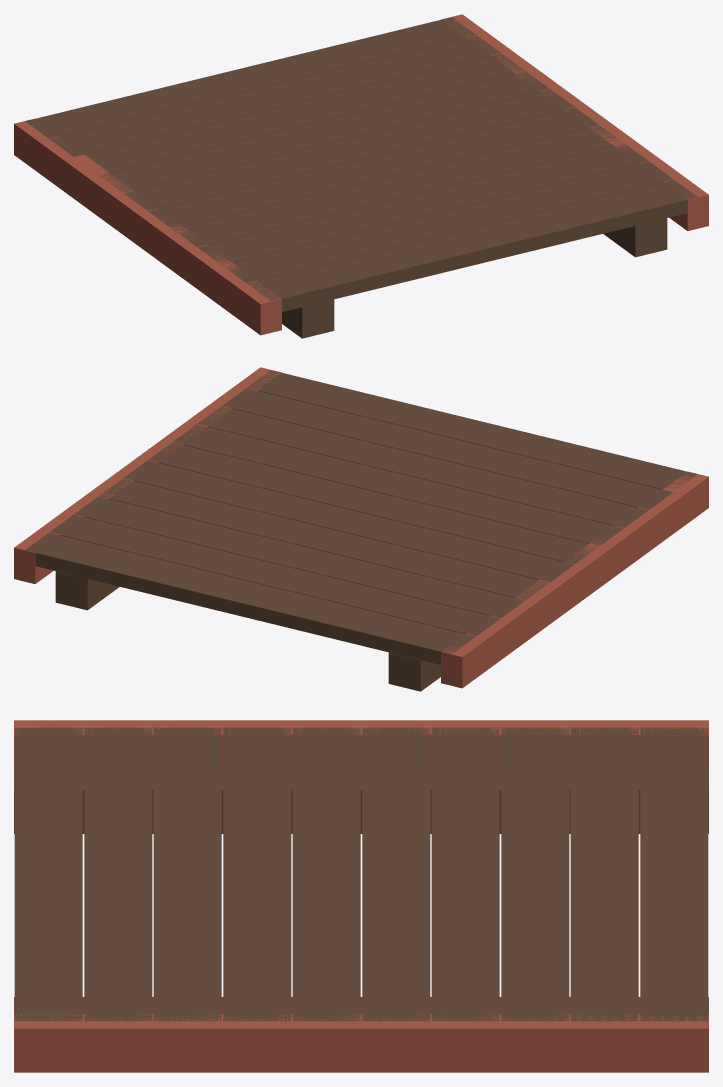
Rendered from bridge-deck.glb.
3 renders of one model, top to bottom at view 1: azimuth 30°, elevation 25°; view 2: azimuth 150°, elevation 25°; view 3: azimuth 270°, elevation 25°, orthographic. The views are drawn at different scales.
Visible parts, largest first — view 1: bridge-deck; view 2: bridge-deck; view 3: bridge-deck.
Part boxes in pixels (x1=…): bridge-deck: x1=14, y1=14, x2=708, y2=338; bridge-deck: x1=14, y1=367, x2=708, y2=691; bridge-deck: x1=14, y1=720, x2=708, y2=1072.
Size of the model in its own units: 2.1 by 0.2 by 2.
